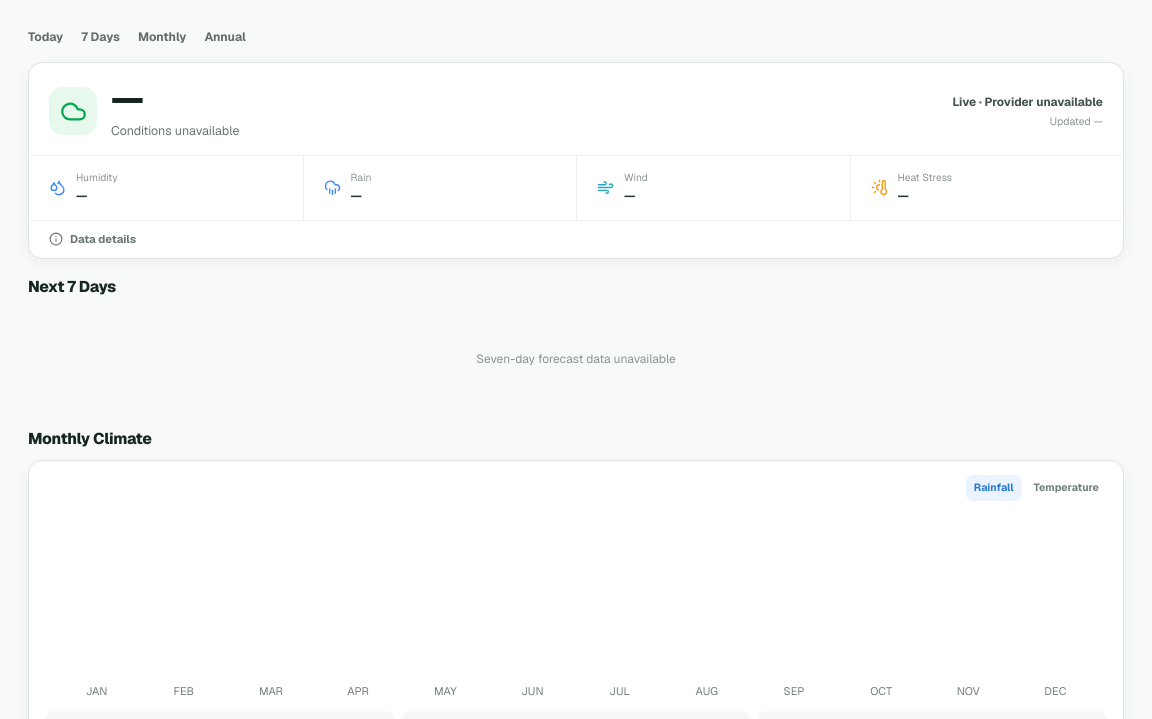
Test: ClimateOverview › switches the monthly chart between rainfall and temperature
Click the button "Temperature".
click(1066, 488)  # box left=1026, top=475, right=1107, bottom=501
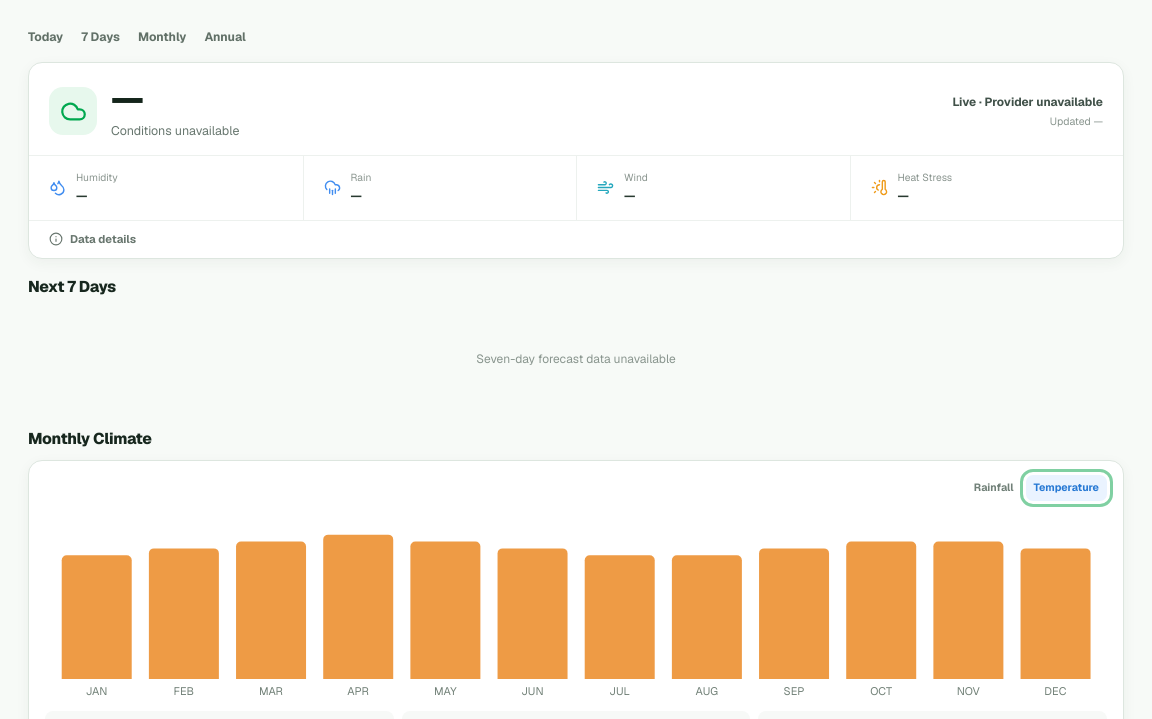
Expected: the element named "Monthly temperature chart" is shown, left=45, top=504, right=1107, bottom=709
